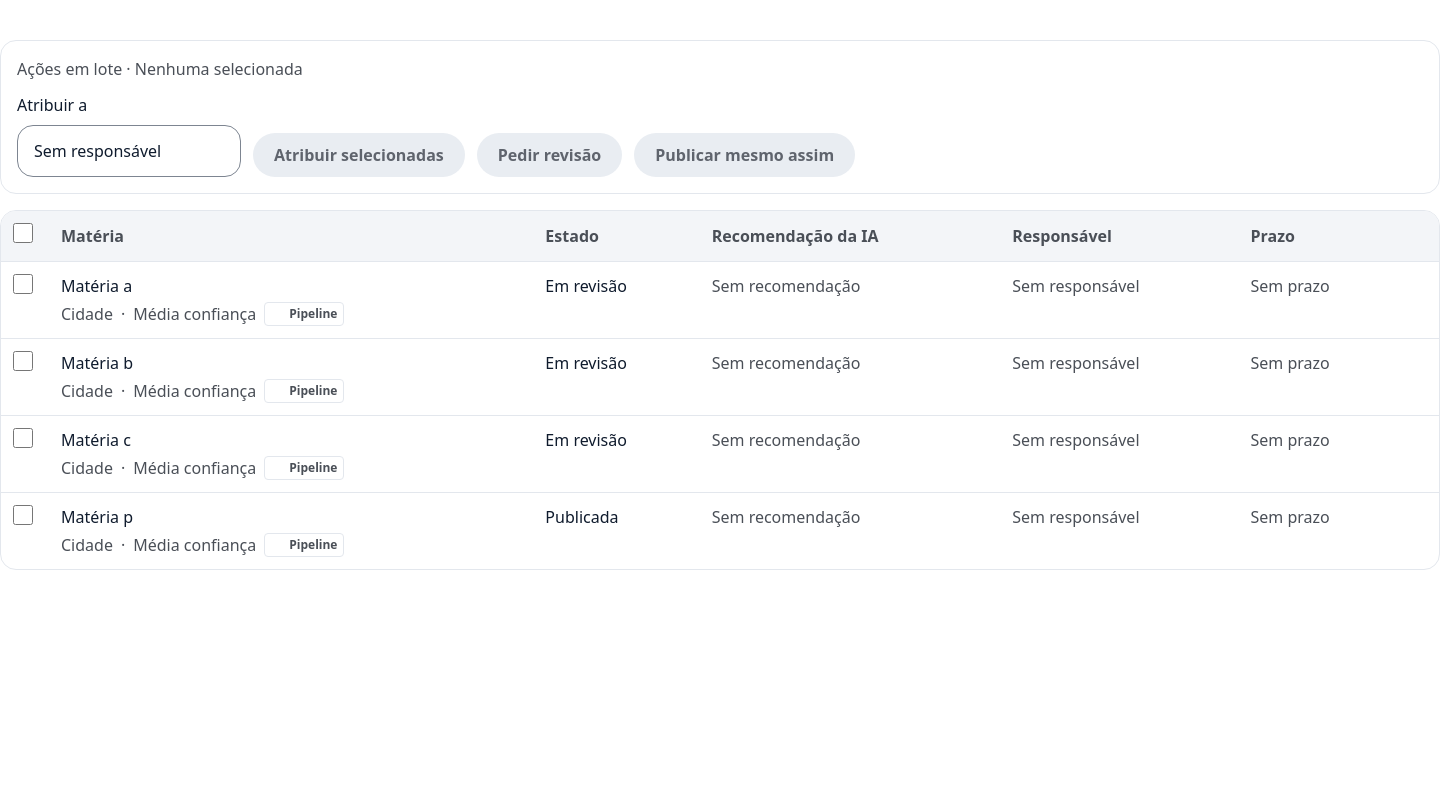
Scenario: Publicar mesmo assim · diálogo › erro ao calcular os riscos: mensagem e tentar de novo
Click the checkbox named "Selecionar todas as matérias em revisão desta página" at {"x": 23, "y": 233}, box [13,223,33,243]
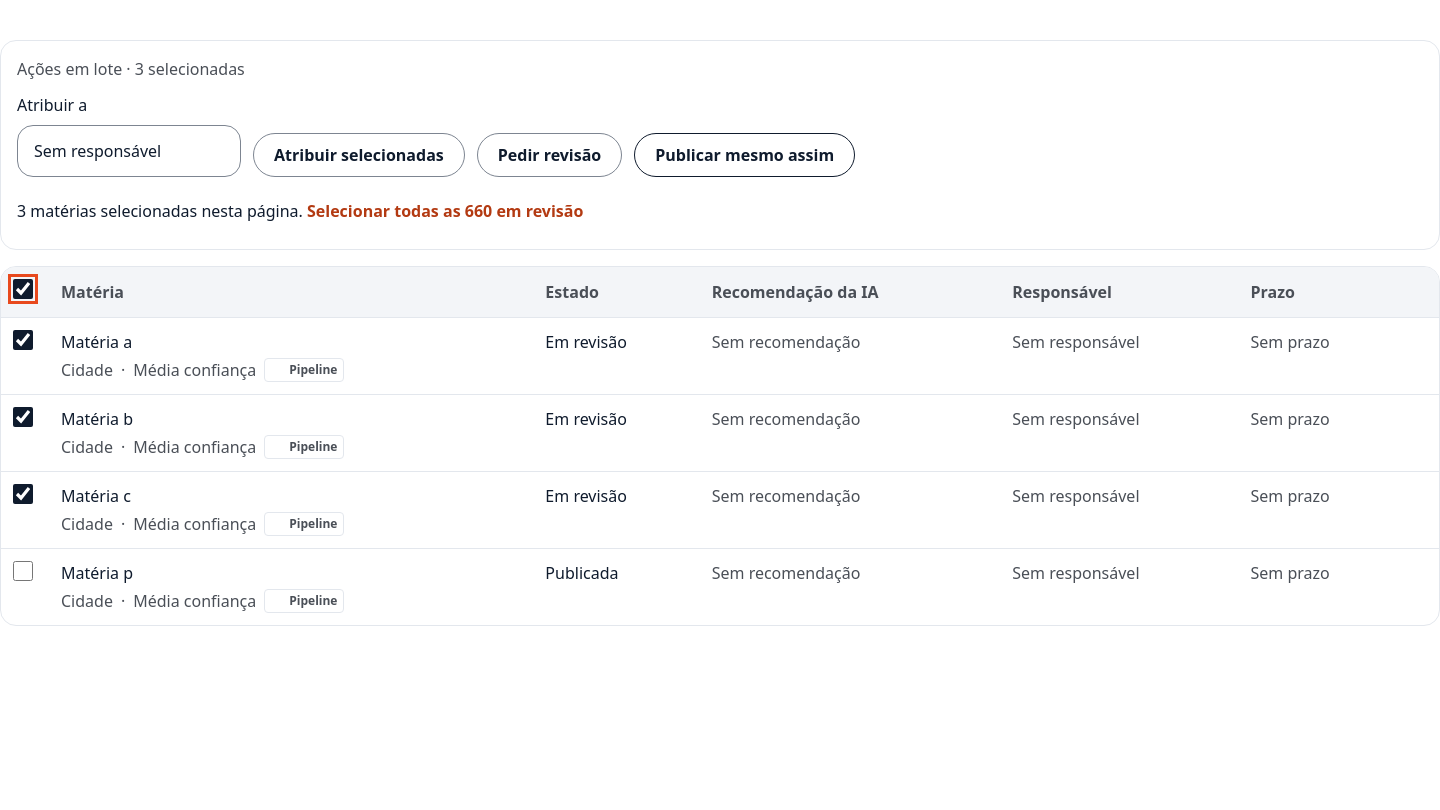
Click the button "Publicar mesmo assim" at {"x": 745, "y": 155}, box [634,133,855,177]
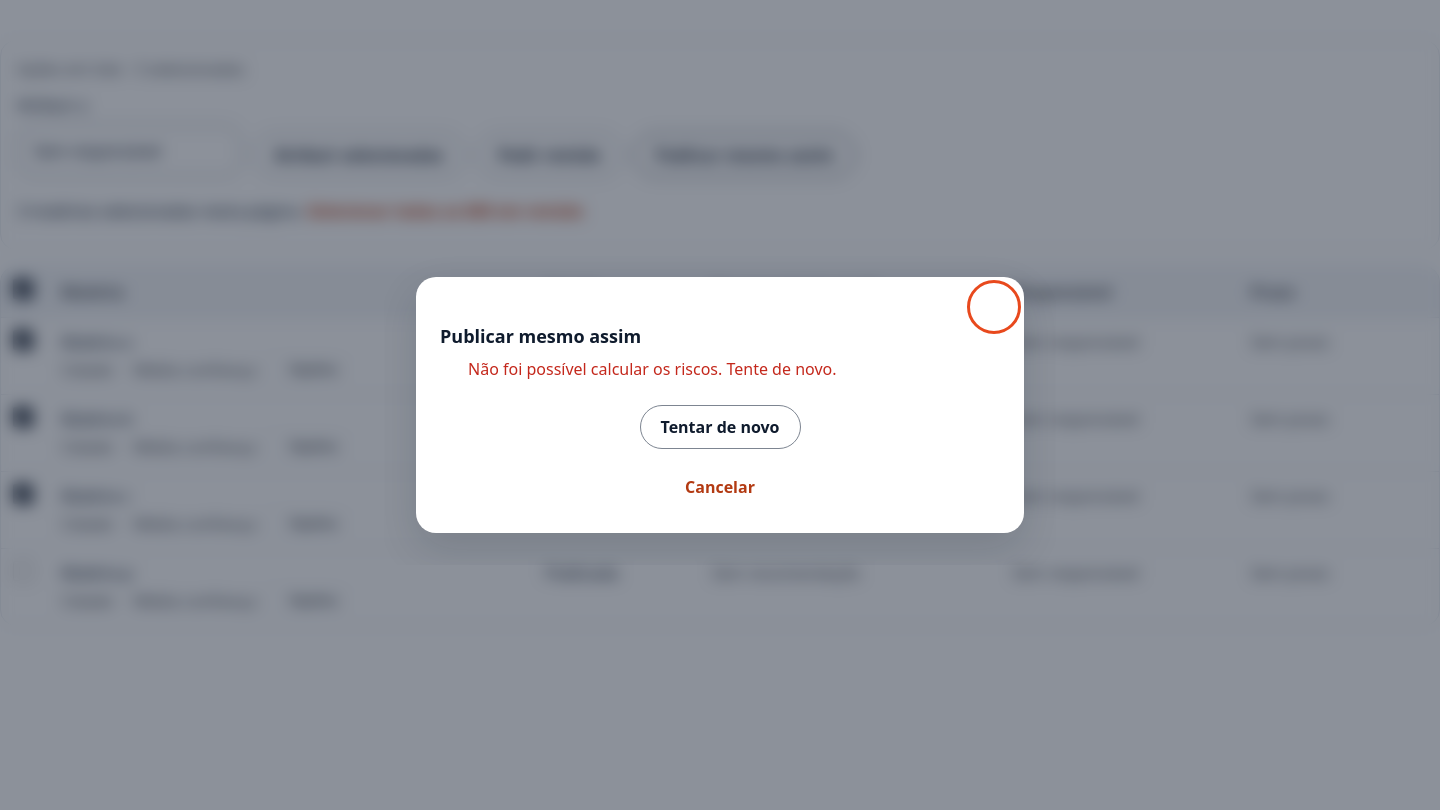
Expected: the text "Não foi possível calcular os riscos. Tente de novo." is shown, [440,358,836,380]
Click the button "Tentar de novo" at {"x": 720, "y": 427}, box [640,405,800,449]
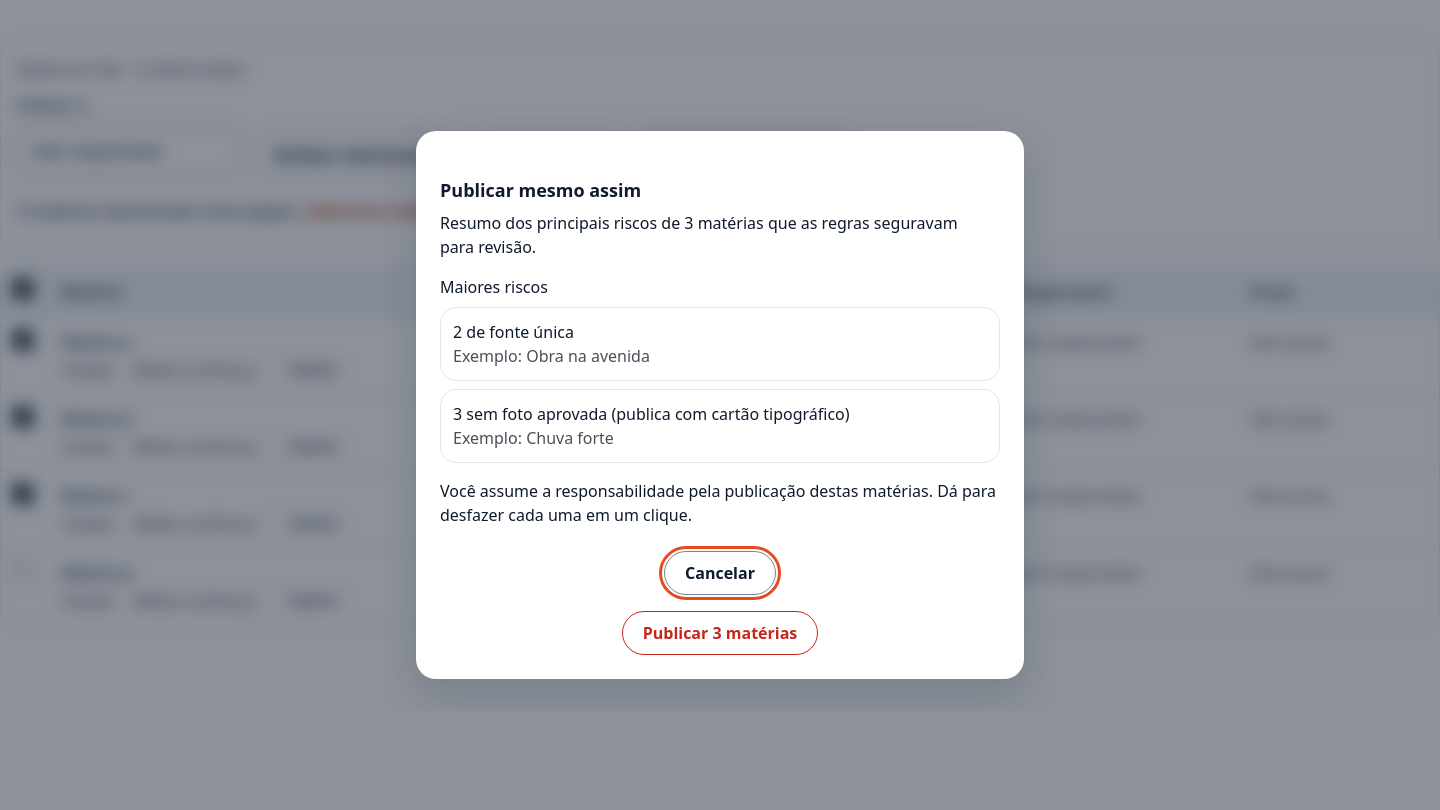
Expected: the button "Publicar 3 matérias" is shown, [622,611,818,655]
